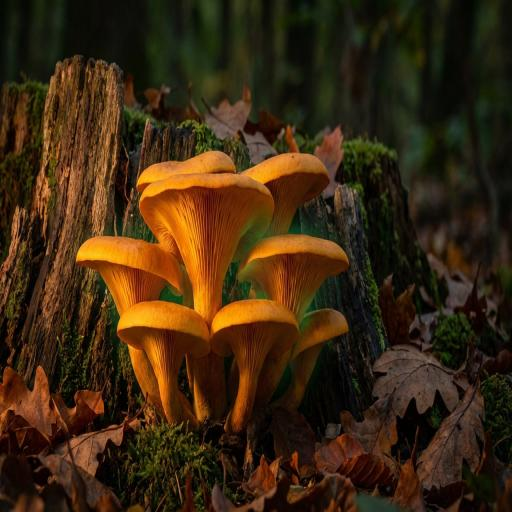Jack O Lantern Mushroom: (75, 223, 176, 422), (138, 173, 273, 315), (119, 292, 217, 449), (206, 294, 295, 439), (234, 235, 348, 320), (246, 142, 330, 237), (290, 308, 347, 423), (136, 142, 230, 195)
